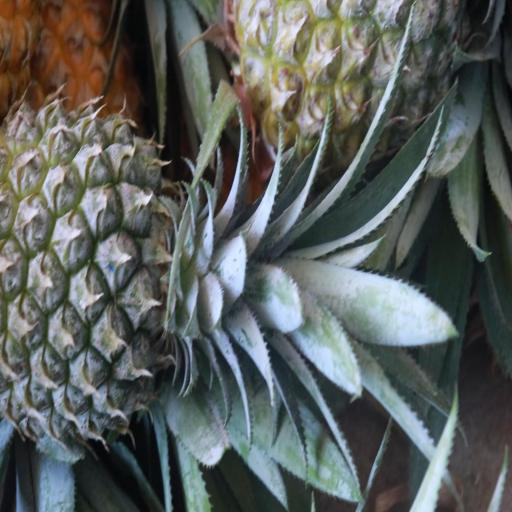------------------------------: (236, 0, 469, 165)
